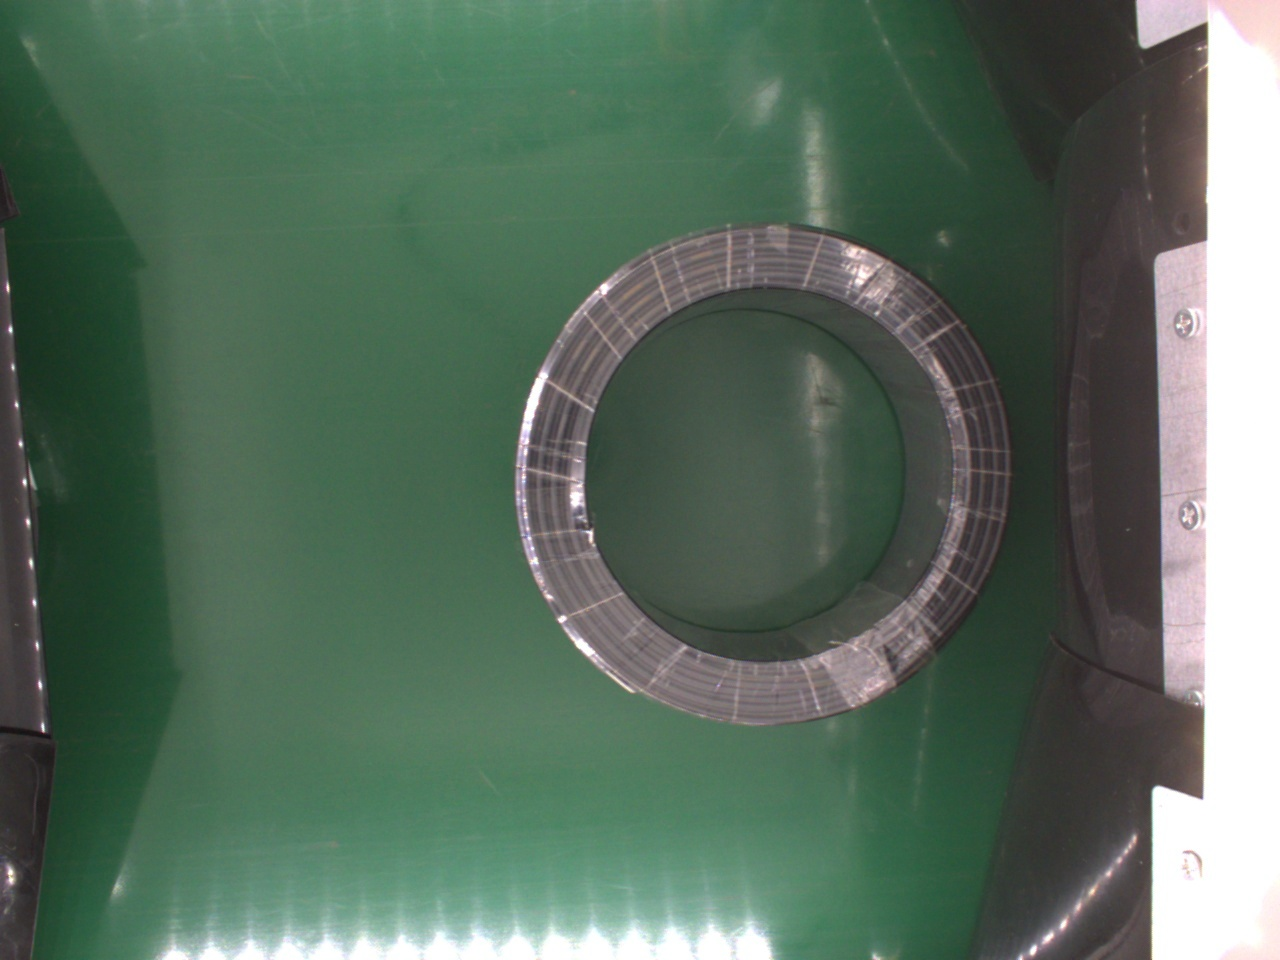black: (506, 219, 1008, 725)
